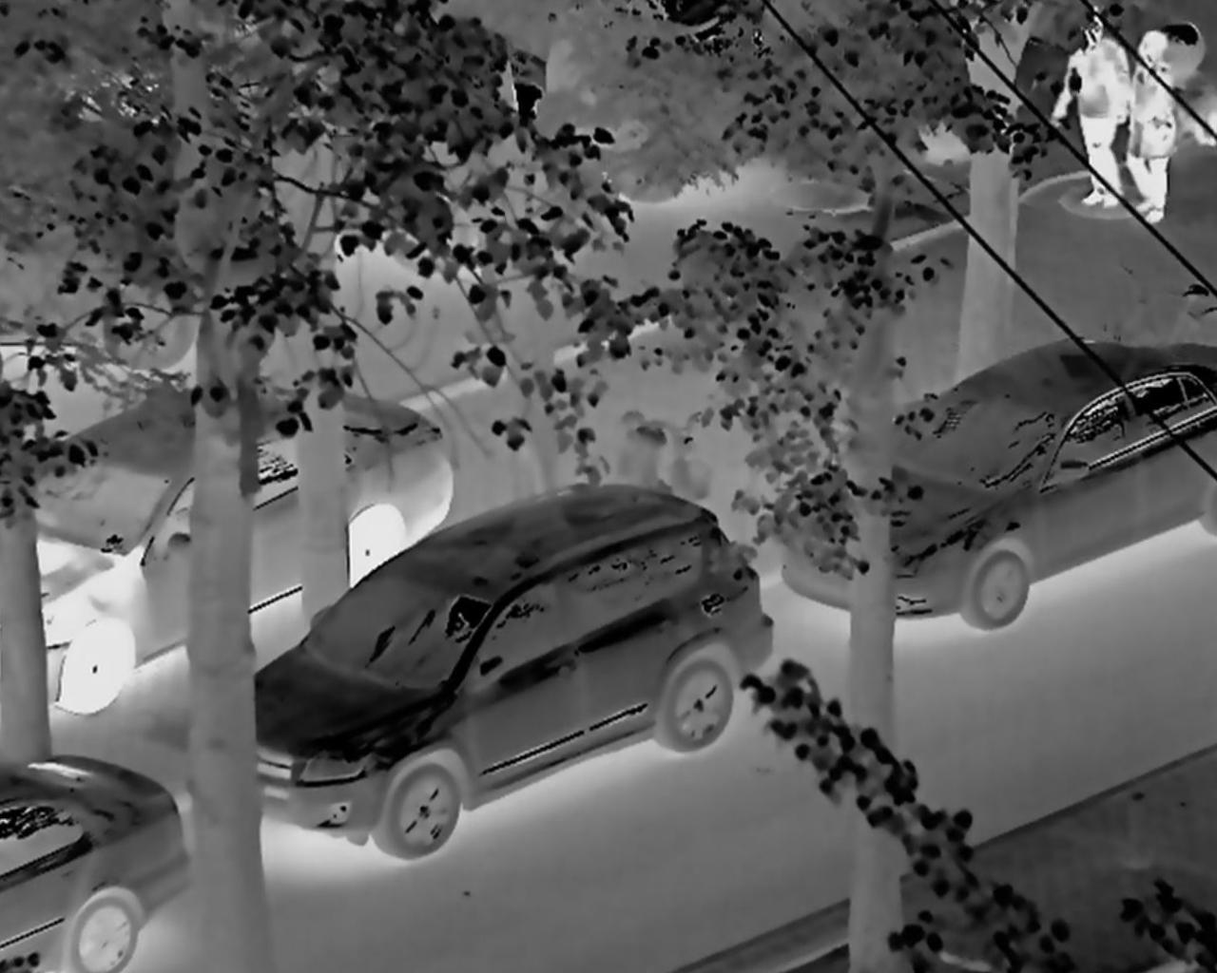person: (1049, 12, 1127, 218), (1119, 23, 1177, 238)
